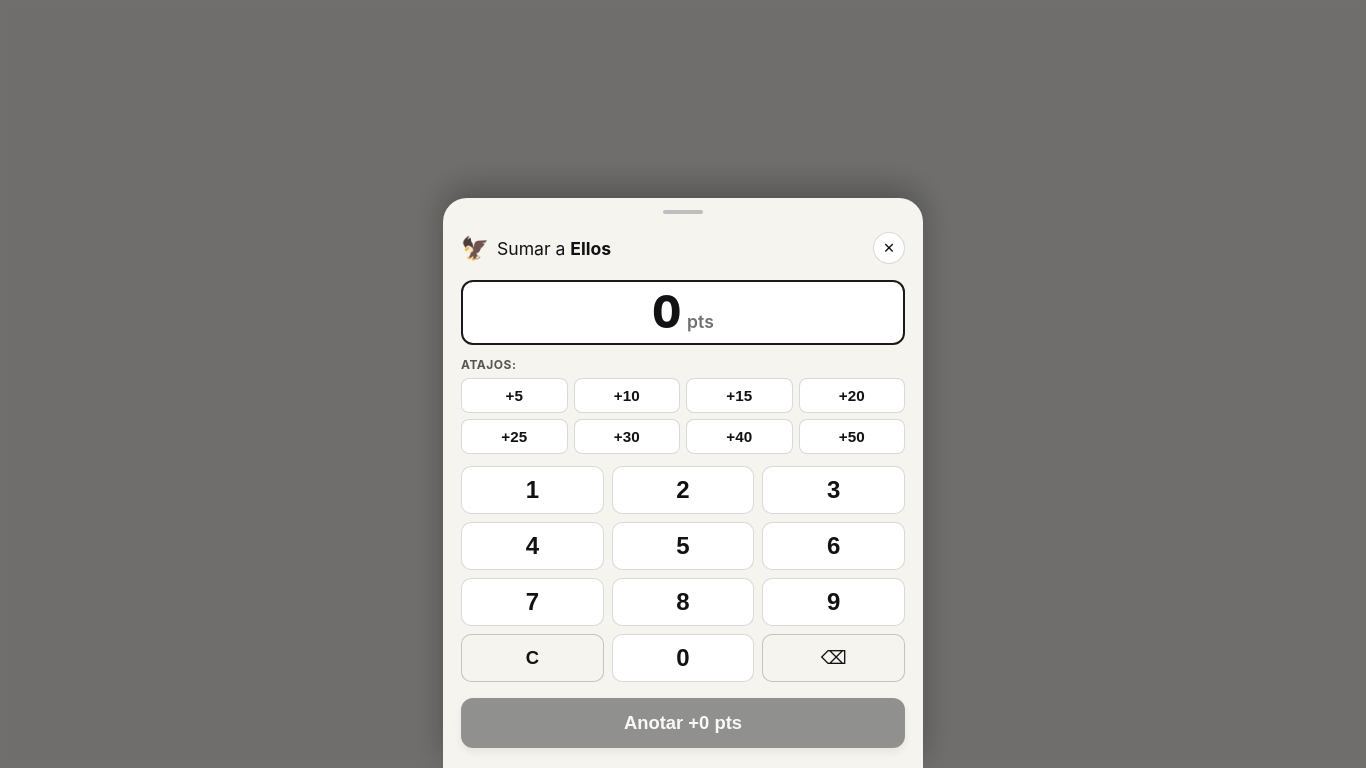
Test: ScoreInputDrawer › should show error and disable save when score exceeds max score
Step 1. Click the button "2" → click(683, 490), box [612,466,754,514]
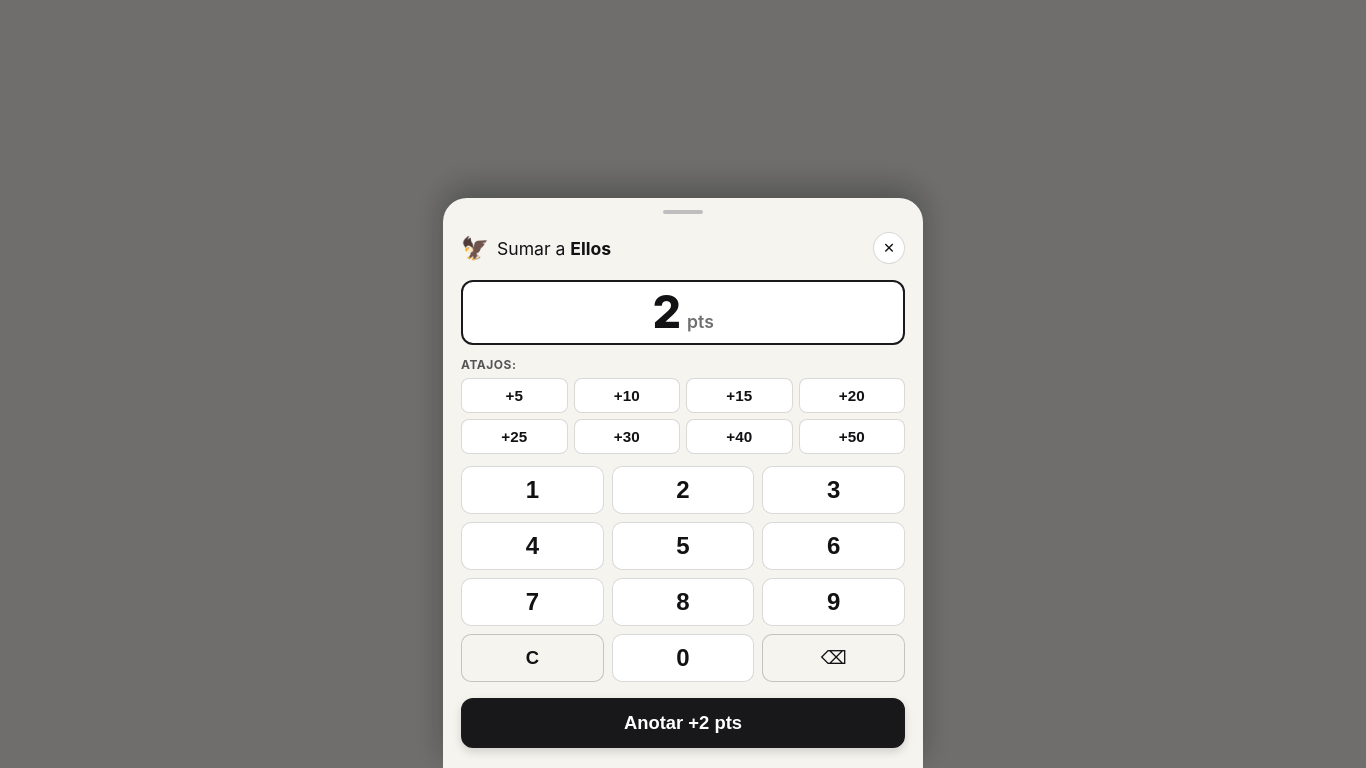
Step 2. Click the button "0" → click(683, 658), box [612,634,754,682]
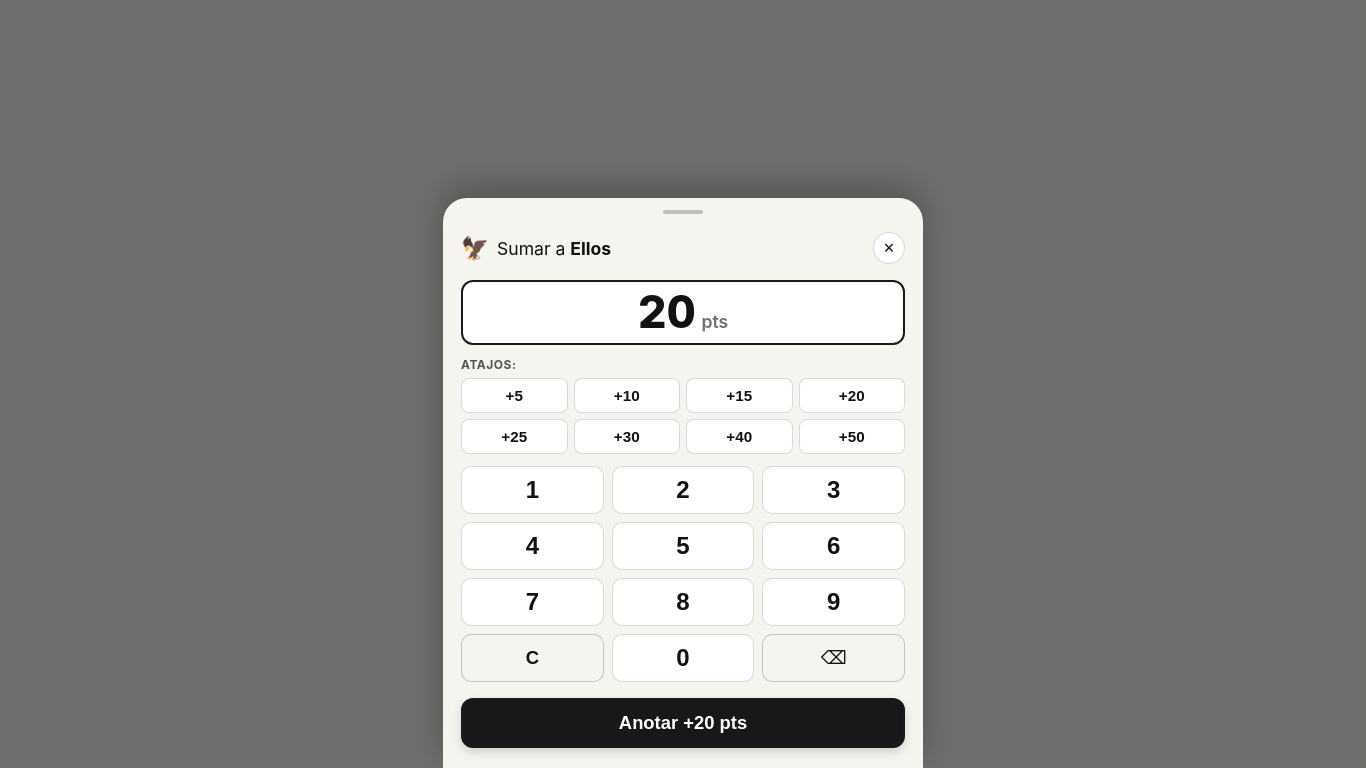
Step 3. Click the button "0" → click(683, 658), box [612,634,754,682]
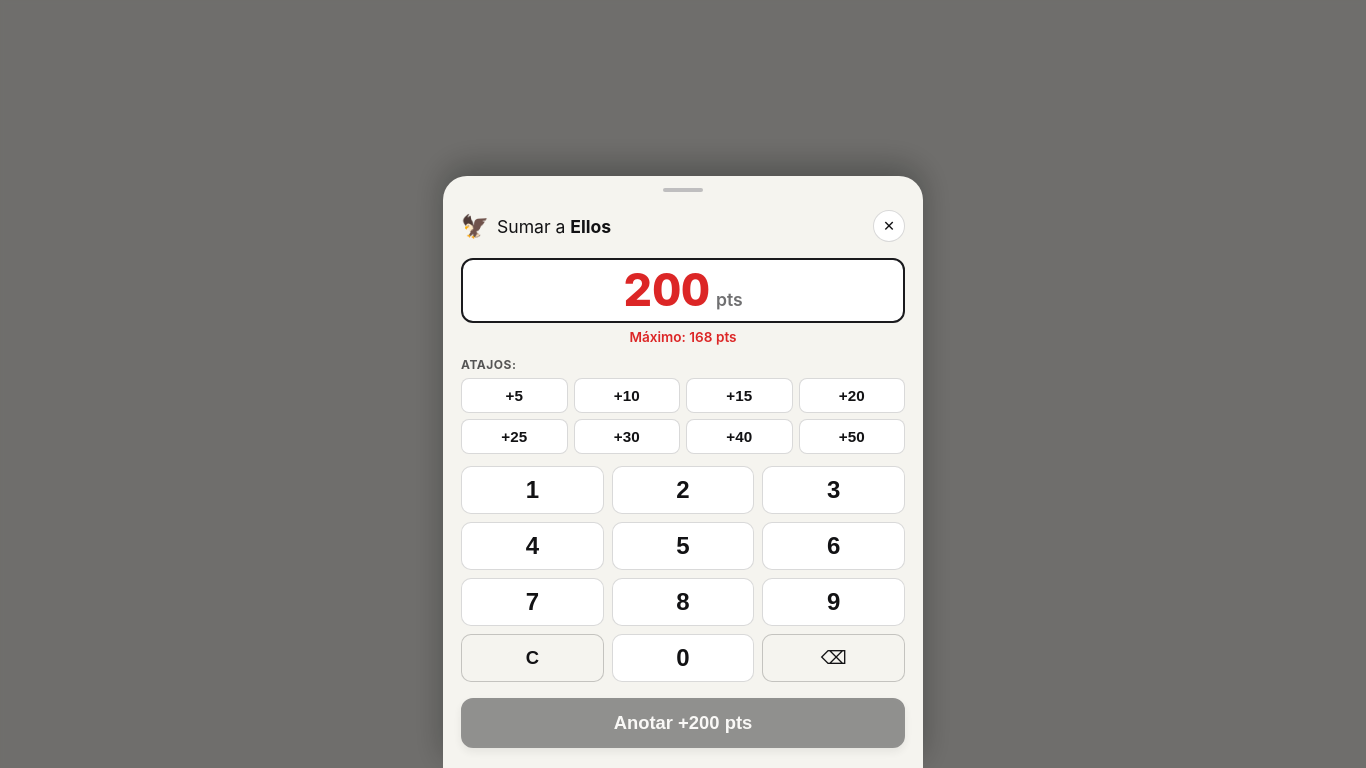
expect the text "Máximo: 168 pts" is shown: met, box [629,329,736,345]
expect the button "Anotar +200 pts" is disabled: met, box [461,698,905,748]
